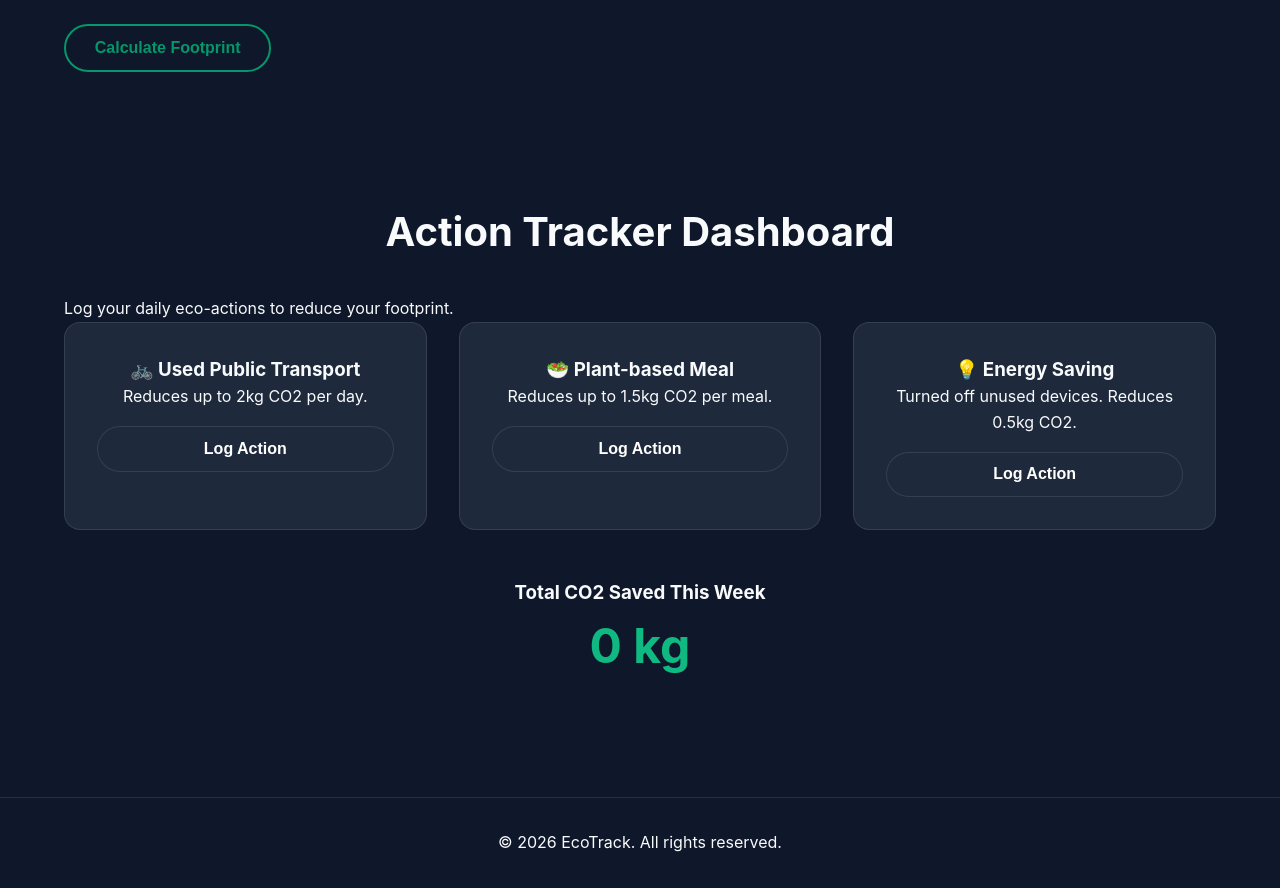
Carbon Footprint App › logs actions correctly
(page scrolled)
Check: the text with test id "total-saved" reads "0 kg", box 590,616 -> 690,675
Note: Click 'Log Action' for Public Transport
Click the button with aria-label "Log Public Transport Action". click: coordinates (245, 449)
box: 97,426 -> 394,472
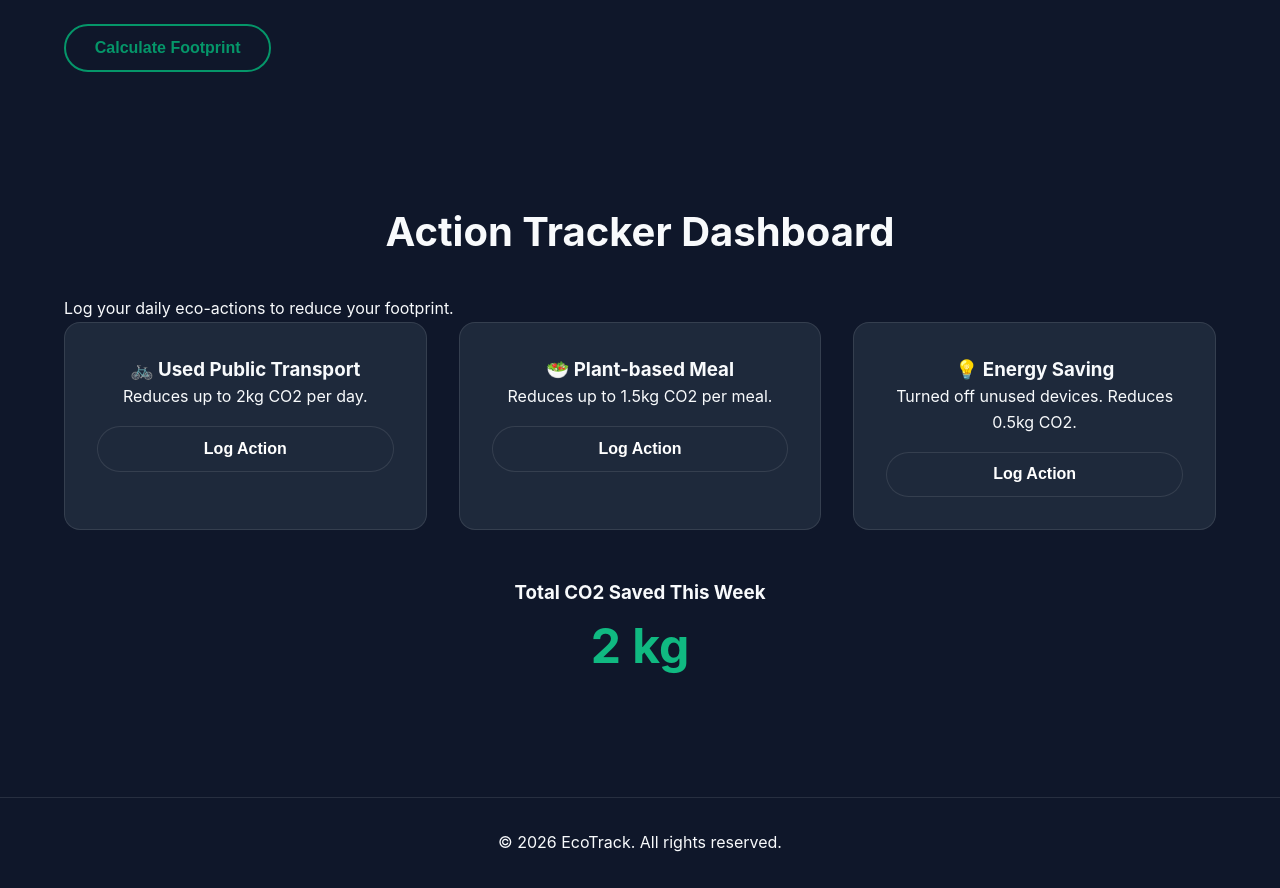
Check: the text with test id "total-saved" reads "2 kg", box 591,616 -> 689,675
Note: Click 'Log Action' for Energy
Click the button with aria-label "Log Energy Saving Action". click: coordinates (1035, 474)
box: 886,452 -> 1183,497
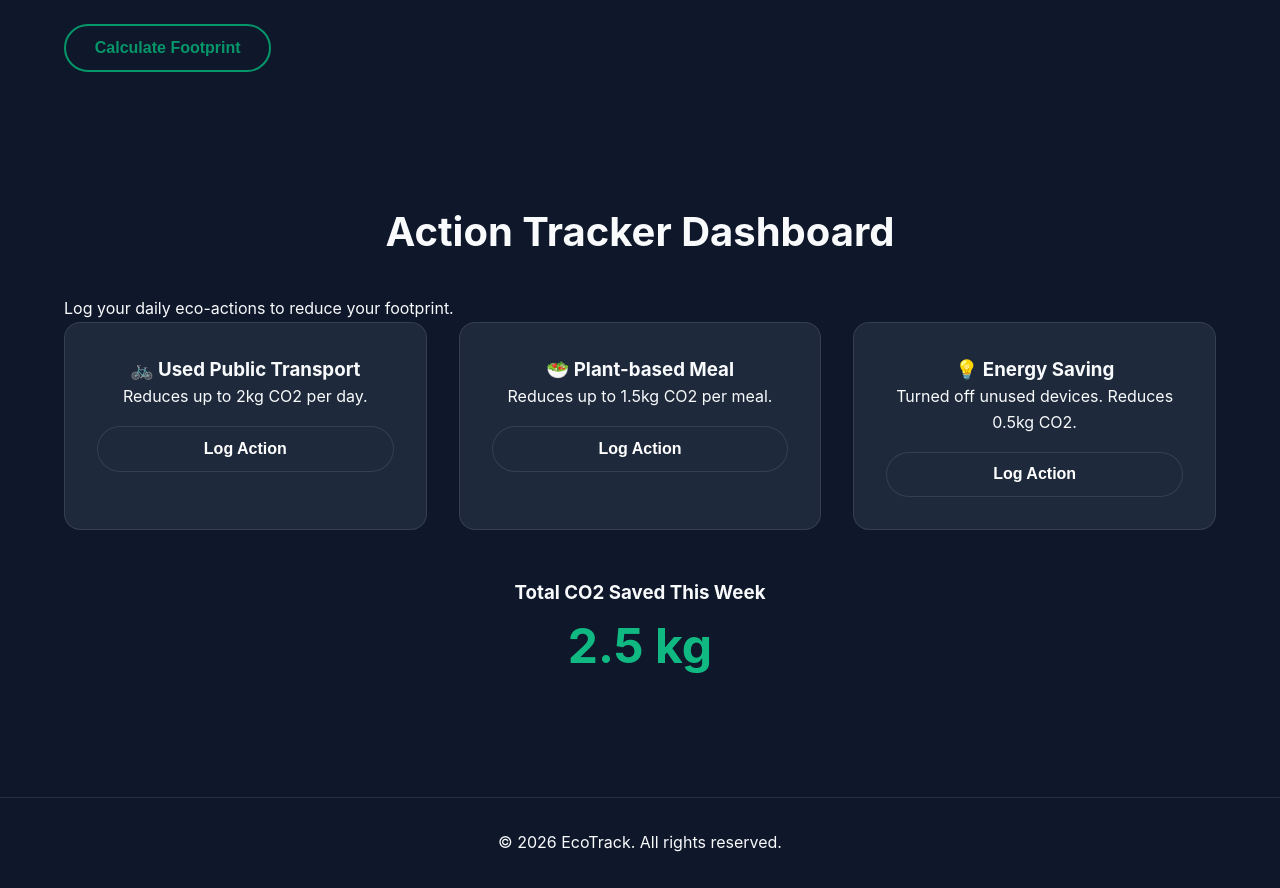
Check: the text with test id "total-saved" reads "2.5 kg", box 568,616 -> 712,675
